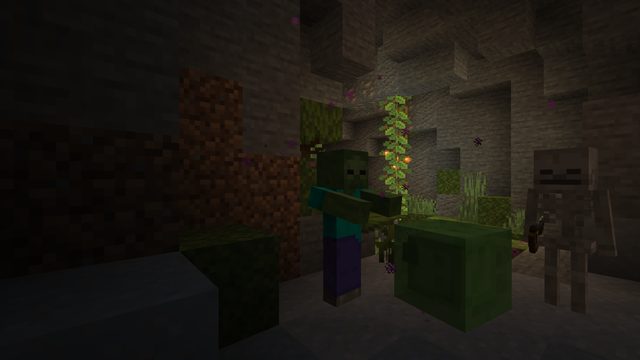slimes: (393, 216, 508, 336), (419, 201, 431, 212)
squelettes: (529, 146, 600, 325)
zombies: (311, 152, 373, 313)
